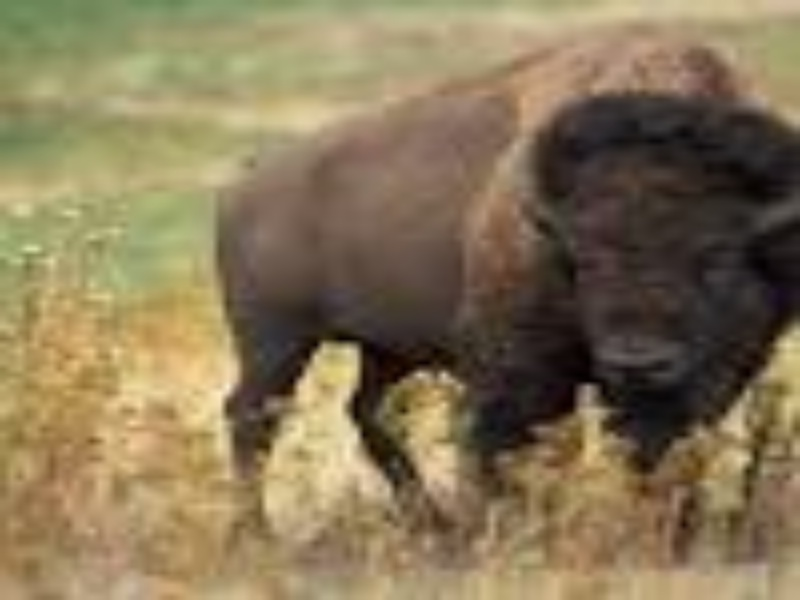buffalo: (220, 39, 783, 532)
